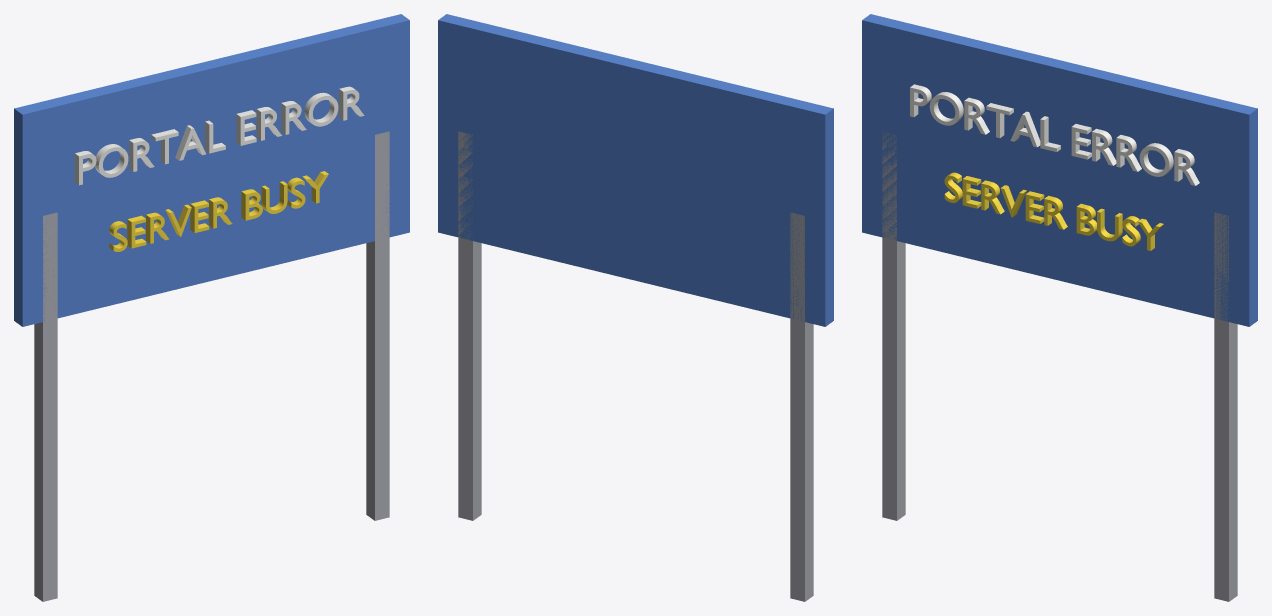
Rendered from PR_PortalSign.glb.
3 renders of one model, left to right at view 1: azimuth 30°, elevation 25°; view 2: azimuth 150°, elevation 25°; view 3: azimuth 330°, elevation 25°, orthographic.
Visible parts, largest first — view 1: PR_PortalSign; view 2: PR_PortalSign; view 3: PR_PortalSign.
Boxes of the visible parts, box(x1,y1,x2,y2) form: PR_PortalSign: box(14, 14, 409, 601); PR_PortalSign: box(438, 14, 833, 601); PR_PortalSign: box(862, 14, 1257, 601).
Bounding box in the file's own units: 2.1 × 2.55 × 0.12.
